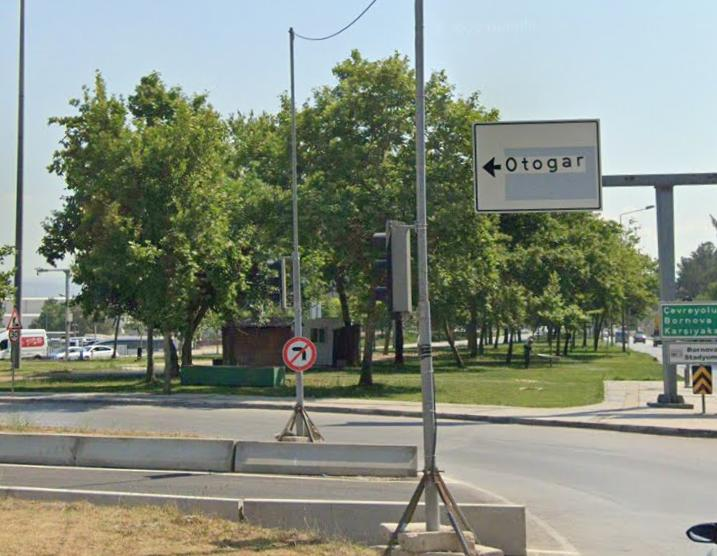leftturnsareforbidden: (282, 336, 317, 371)
